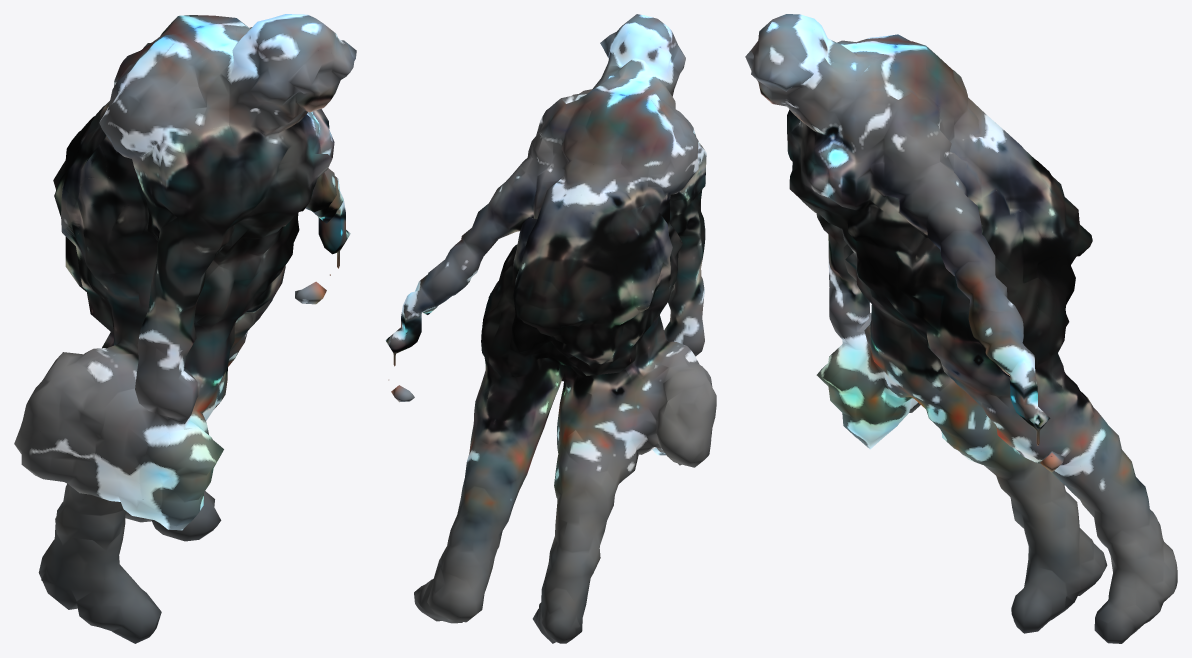
File: medis-preview.glb
The picture shows the model from 3 angles, left to right: view 1: azimuth 30°, elevation 25°; view 2: azimuth 150°, elevation 25°; view 3: azimuth 270°, elevation 25°; orthographic projection. The views are drawn at different scales.
Visible parts, largest first — view 1: mesh; view 2: mesh; view 3: mesh.
Boxes of the visible parts, x1,y1,x2,y2 form: mesh: [14, 14, 356, 643]; mesh: [385, 14, 716, 643]; mesh: [745, 14, 1177, 643].
Size of the model in its own units: 0.4918 by 0.8937 by 0.5665.
Materials: 1 (1 with a texture image).
